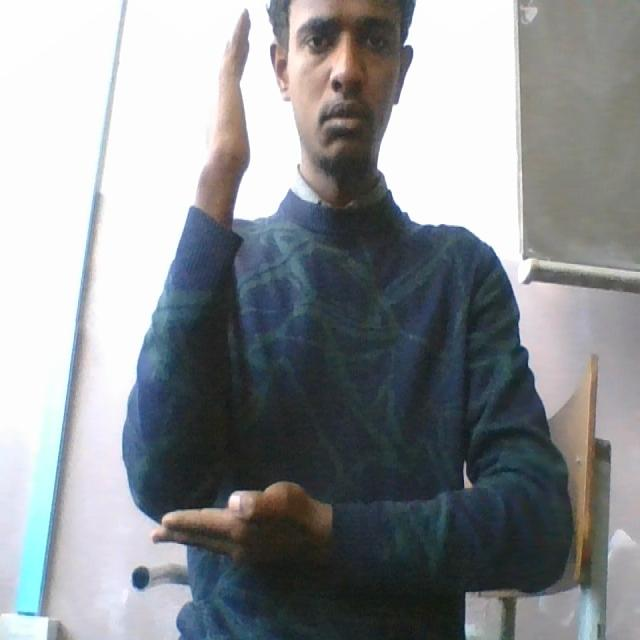egziabher: (124, 4, 319, 571)
